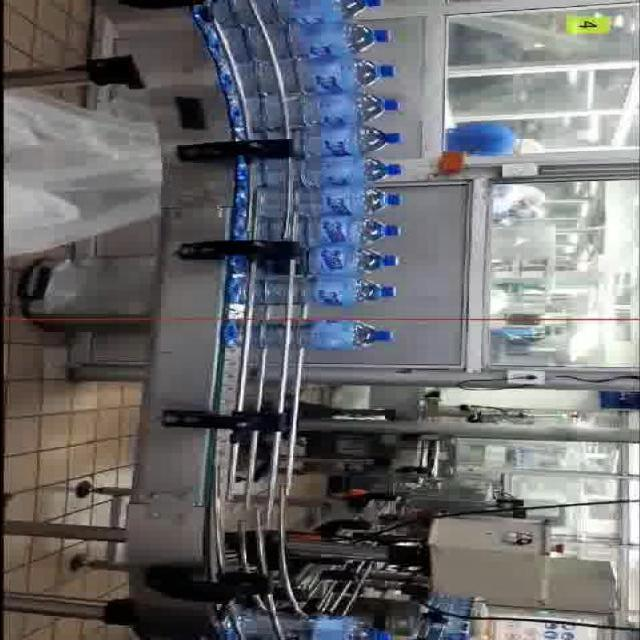bottle: (243, 19, 393, 60), (252, 53, 398, 95), (268, 124, 402, 168), (254, 89, 403, 127), (262, 216, 408, 250), (254, 317, 395, 352), (255, 274, 398, 307), (286, 247, 402, 282), (293, 183, 404, 217), (296, 155, 403, 187)
